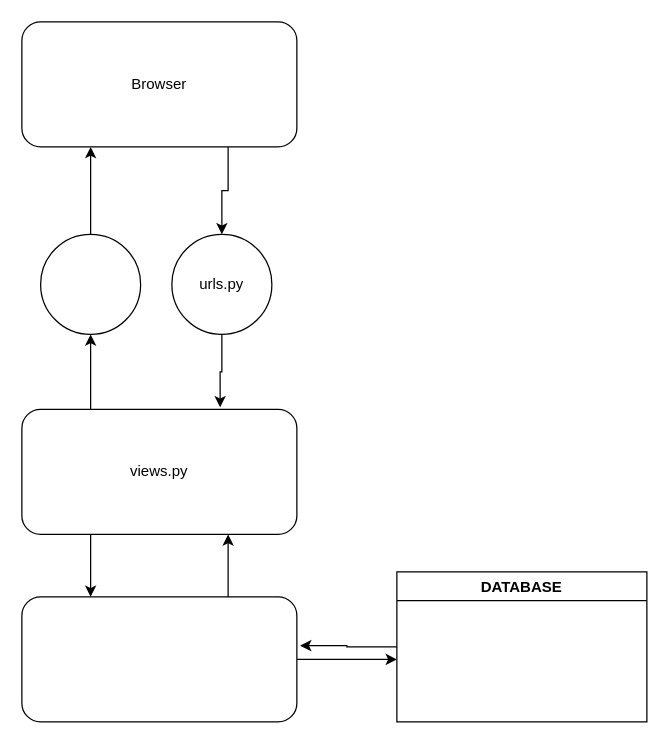
This 669x744 diagram has some shape labels left out. The centre of each missing label's shape, as x and y in pixels:
index.html: the point at 90,283
models.py: the point at 159,659
